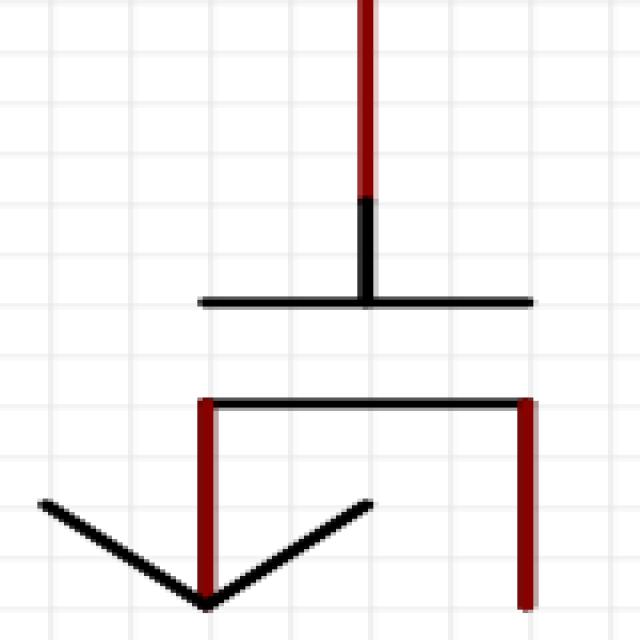nmos: (20, 11, 628, 630)
